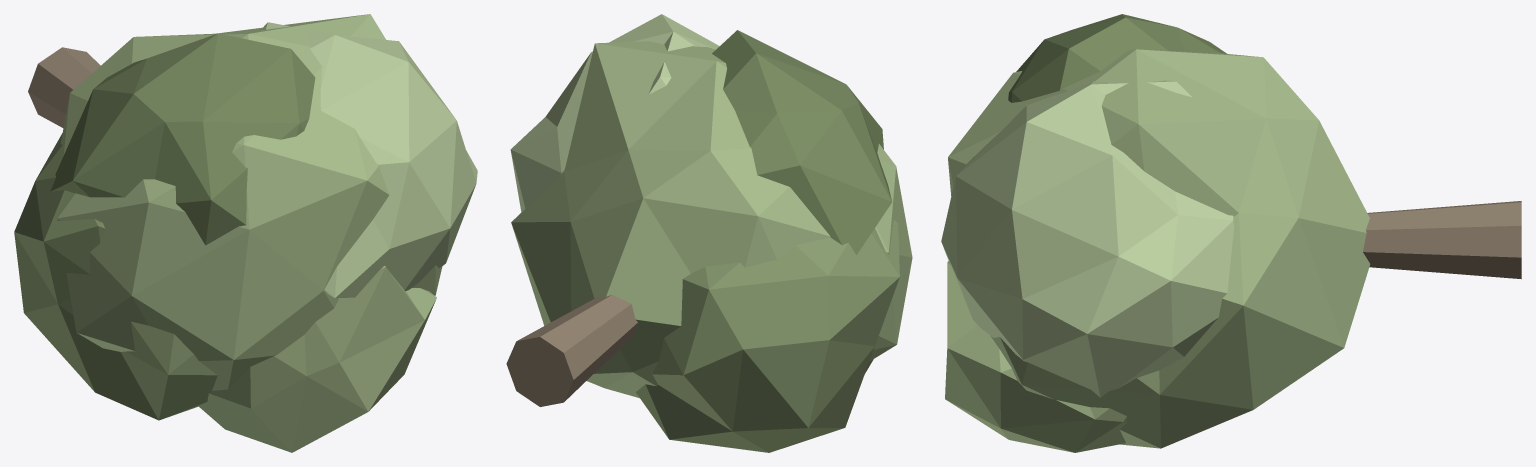
The model's file is deciduous-oak.glb.
The picture shows the model from 3 angles, left to right: view 1: azimuth 30°, elevation 25°; view 2: azimuth 150°, elevation 25°; view 3: azimuth 270°, elevation 25°; orthographic projection. The views are drawn at different scales.
Visible parts, largest first — view 1: deciduous-oak_Forest_Base, deciduous-oak_Forest_Dark, deciduous-oak_Forest_Highlight, deciduous-oak_Forest_Shadow, deciduous-oak_Trunk_Brown; view 2: deciduous-oak_Forest_Base, deciduous-oak_Forest_Shadow, deciduous-oak_Forest_Dark, deciduous-oak_Trunk_Brown, deciduous-oak_Forest_Highlight; view 3: deciduous-oak_Forest_Base, deciduous-oak_Forest_Highlight, deciduous-oak_Trunk_Brown, deciduous-oak_Forest_Dark.
Boxes of the visible parts, box(x1,y1,x2,y2) form: deciduous-oak_Forest_Base: box(57, 14, 442, 452); deciduous-oak_Forest_Dark: box(50, 33, 315, 245); deciduous-oak_Forest_Highlight: box(261, 22, 477, 298); deciduous-oak_Forest_Shadow: box(14, 133, 217, 420); deciduous-oak_Trunk_Brown: box(28, 47, 100, 128); deciduous-oak_Forest_Base: box(511, 41, 912, 398); deciduous-oak_Forest_Shadow: box(636, 220, 899, 452); deciduous-oak_Forest_Dark: box(712, 30, 891, 254); deciduous-oak_Trunk_Brown: box(506, 295, 637, 406); deciduous-oak_Forest_Highlight: box(510, 14, 719, 212); deciduous-oak_Forest_Base: box(945, 49, 1370, 452); deciduous-oak_Forest_Highlight: box(941, 80, 1234, 397); deciduous-oak_Trunk_Brown: box(1363, 201, 1521, 279); deciduous-oak_Forest_Dark: box(1008, 14, 1226, 102).
Bounding box in the file's own units: 2.11 × 1.92 × 2.51.
